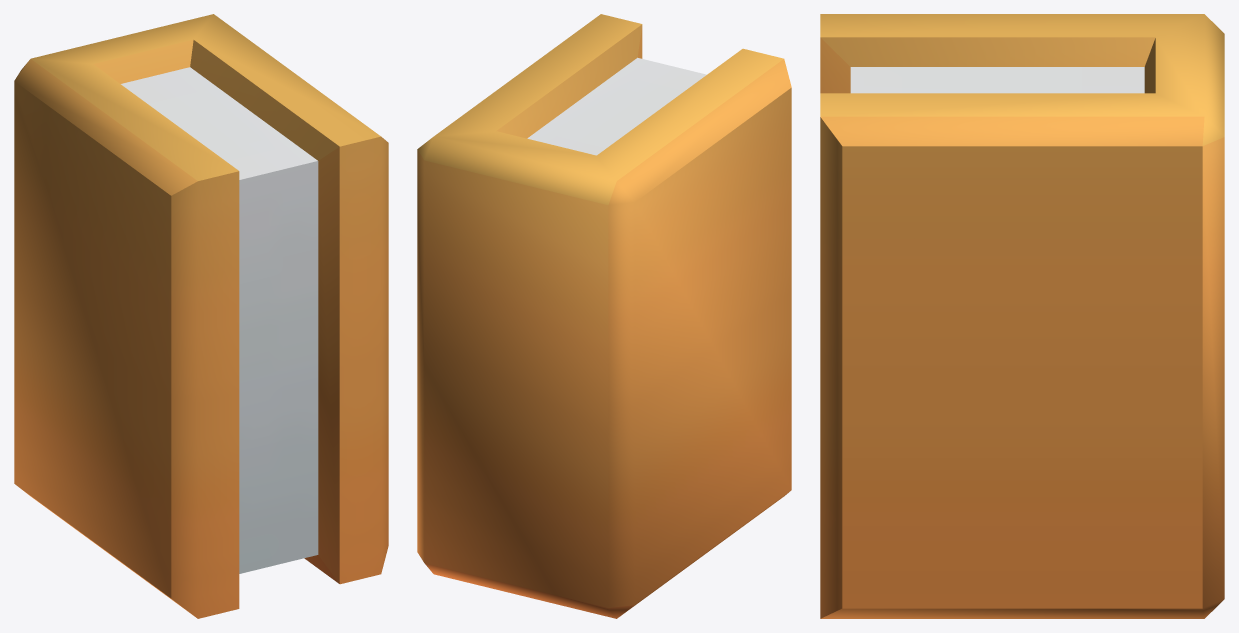
The model's file is kkf.book_single.glb.
3 views of the same model, side by side, from view 1: azimuth 30°, elevation 25°; view 2: azimuth 150°, elevation 25°; view 3: azimuth 270°, elevation 25° (orthographic). The views are drawn at different scales.
Visible parts, largest first — view 1: book_single; view 2: book_single; view 3: book_single.
Boxes of the visible parts, <box> form: book_single: <box>14,14,388,618</box>; book_single: <box>417,14,791,618</box>; book_single: <box>820,14,1224,618</box>.
Bounding box in the file's own units: 0.093 × 0.1789 × 0.1306.
1 material, 1 textured.
